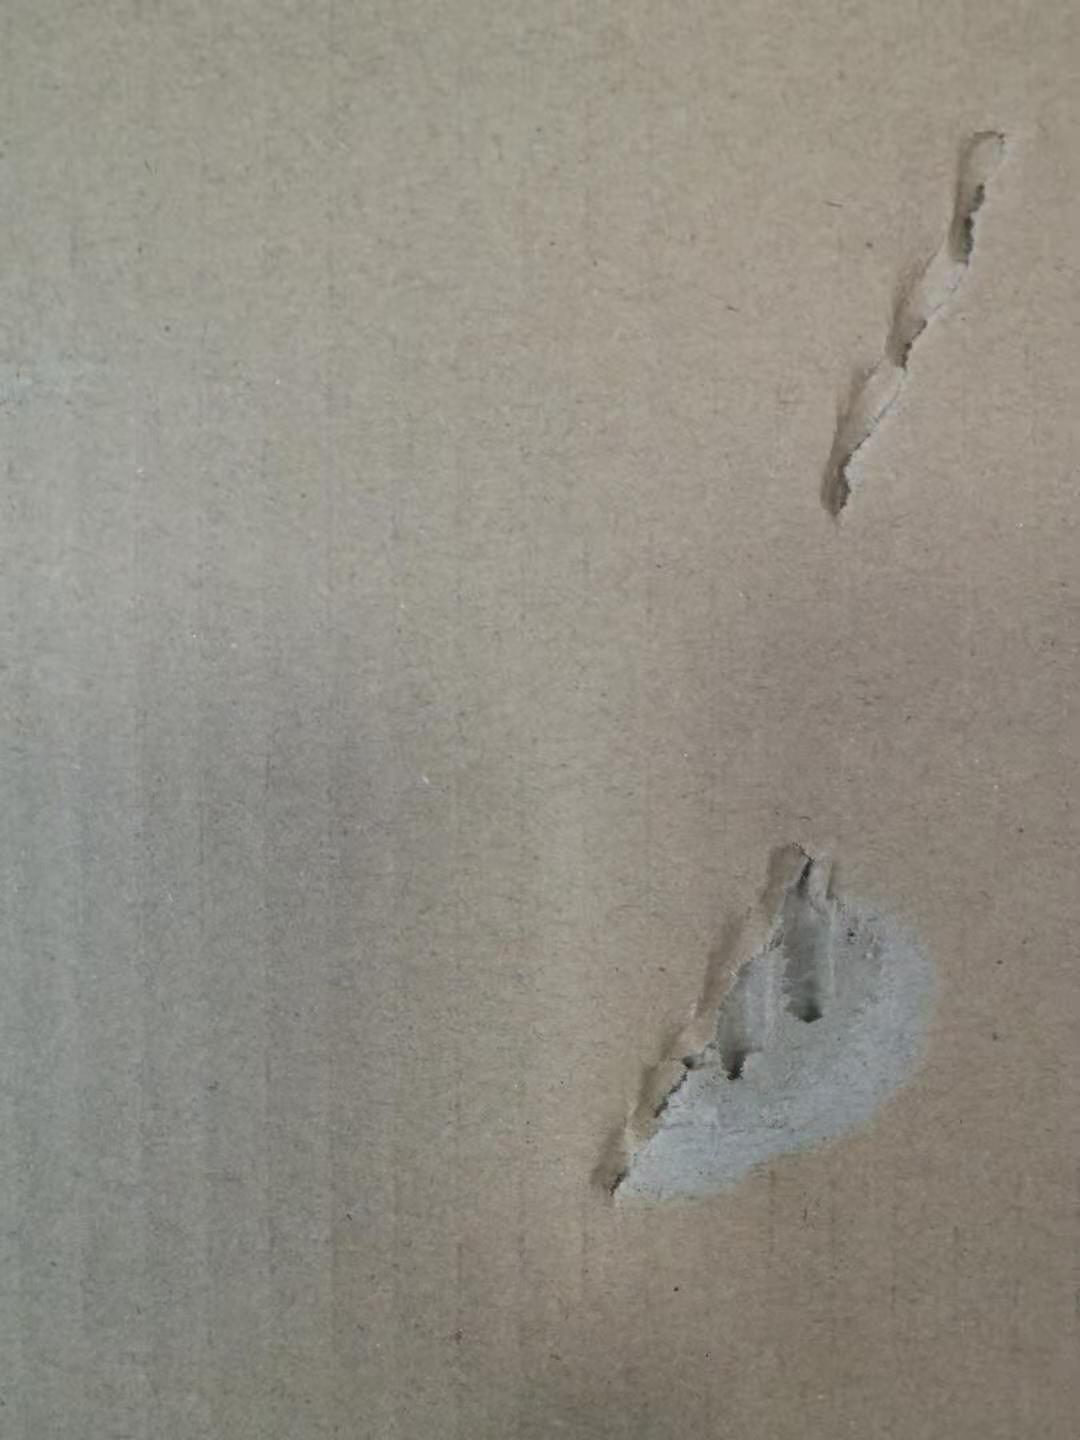defect: (566, 807, 972, 1238), (785, 96, 1055, 547)
